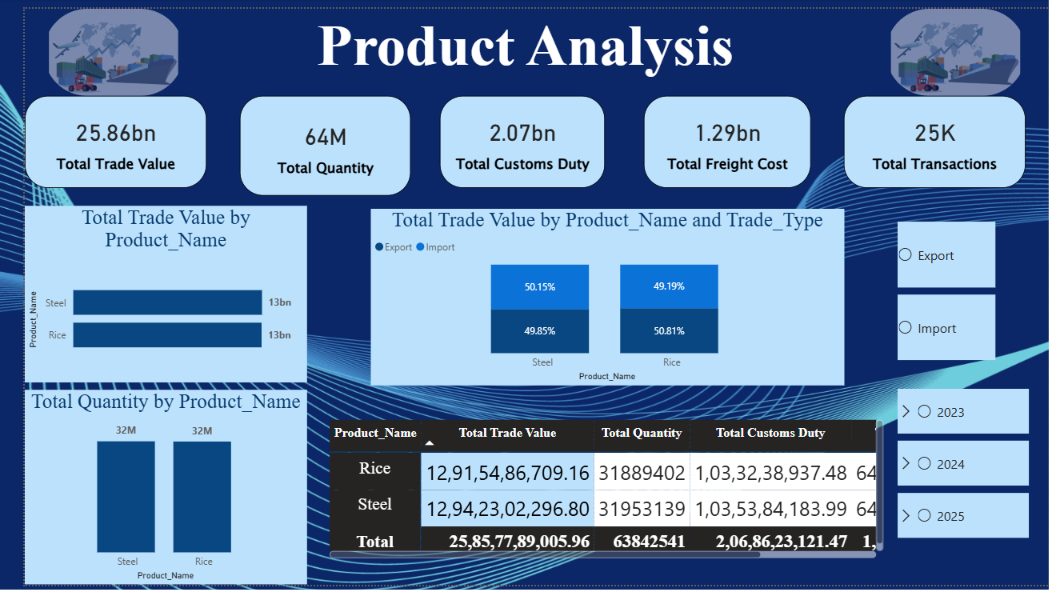

The page's visual inventory and layout, read from the dashboard file:
{"tool":"powerbi","page":{"name":"Product Analysis","canvas":[1280,720],"ordinal":2},"visuals":[{"type":"card","fields":{"Values":["Companies.Total Trade Value"]},"box":[0,108.8,227.4,114.9],"z":0},{"type":"card","fields":{"Values":["Companies.Total Quantity"]},"box":[269,108.8,214,124.7],"z":1000},{"type":"card","fields":{"Values":["Companies.Total Customs Duty"]},"box":[518.5,108.8,206.7,114.9],"z":2000},{"type":"card","fields":{"Values":["Companies.Total Freight Cost"]},"box":[774.1,108.8,209.1,114.9],"z":3000},{"type":"card","fields":{"Values":["Companies.Total Transactions"]},"box":[1023.5,108.8,227.4,114.9],"z":4000},{"type":"textbox","box":[0,0,1251.2,100],"z":5000},{"type":"clusteredBarChart","fields":{"Category":["Products.Product_Name"],"Y":["Companies.Total Trade Value"]},"box":[0,246,352.7,220.4],"z":6000},{"type":"clusteredColumnChart","fields":{"Category":["Products.Product_Name"],"Y":["Companies.Total Quantity"]},"box":[0,476.4,352.7,243.2],"z":7000},{"type":"hundredPercentStackedColumnChart","fields":{"Category":["Products.Product_Name"],"Series":["Trade_Transactions_25000.Trade_Type"],"Y":["Companies.Total Trade Value"]},"box":[432.4,250.3,591.6,220.4],"z":8000},{"type":"pivotTable","fields":{"Rows":["Products.Product_Name"],"Values":["Companies.Total Trade Value","Companies.Total Quantity","Companies.Total Customs Duty","Companies.Total Freight Cost"]},"box":[376.6,493.4,709.8,197.7],"z":9000},{"type":"listSlicer","fields":{"Values":["Trade_Transactions_25000.Trade_Date.Variation.Date Hierarchy.Year","Trade_Transactions_25000.Trade_Date.Variation.Date Hierarchy.Quarter","Trade_Transactions_25000.Trade_Date.Variation.Date Hierarchy.Month","Trade_Transactions_25000.Trade_Date.Variation.Date Hierarchy.Day"]},"box":[1086.4,454.5,174.6,226.5],"z":10000},{"type":"listSlicer","fields":{"Values":["Trade_Transactions_25000.Trade_Type"]},"box":[1086.4,246.7,132.7,215],"z":11000},{"type":"image","box":[23.8,0,175,108.8],"z":12000},{"type":"image","box":[1076.2,0,175,108.8],"z":13000}]}

Visuals, with their boxes in screenshot pixels (x1, y1, x2, y2), scaled from the page's 1280x720 canvas onto the 1049x590 screenshot:
card - Companies.Total Trade Value: (0,89,186,183)
card - Companies.Total Quantity: (220,89,396,191)
card - Companies.Total Customs Duty: (425,89,594,183)
card - Companies.Total Freight Cost: (634,89,806,183)
card - Companies.Total Transactions: (839,89,1025,183)
textbox: (0,0,1025,82)
clusteredBarChart - Products.Product_Name x Companies.Total Trade Value: (0,202,289,382)
clusteredColumnChart - Products.Product_Name x Companies.Total Quantity: (0,390,289,589)
hundredPercentStackedColumnChart - Products.Product_Name x Trade_Transactions_25000.Trade_Type: (354,205,839,386)
pivotTable - Products.Product_Name x Companies.Total Trade Value: (309,404,890,566)
listSlicer - Trade_Transactions_25000.Trade_Date.Variation.Date Hierarchy.Year x Trade_Transactions_25000.Trade_Date.Variation.Date Hierarchy.Quarter: (890,372,1033,558)
listSlicer - Trade_Transactions_25000.Trade_Type: (890,202,999,378)
image: (20,0,163,89)
image: (882,0,1025,89)
